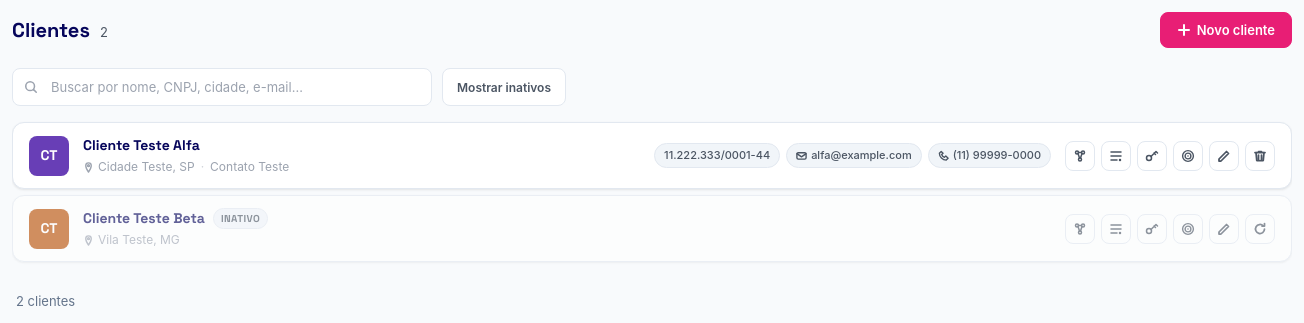
Test: ClientsPage › busca com debounce manda q pra API e "Limpar" volta à lista completa
This screenshot has width=1304, height=323.
Expected: the text "Cliente Teste Alfa" is shown, [83,136,200,154]
In the field with placeholder "Buscar por nome, CNPJ, cidade, e-mail…": (222, 87) [12,68,432,106], type "alfa"
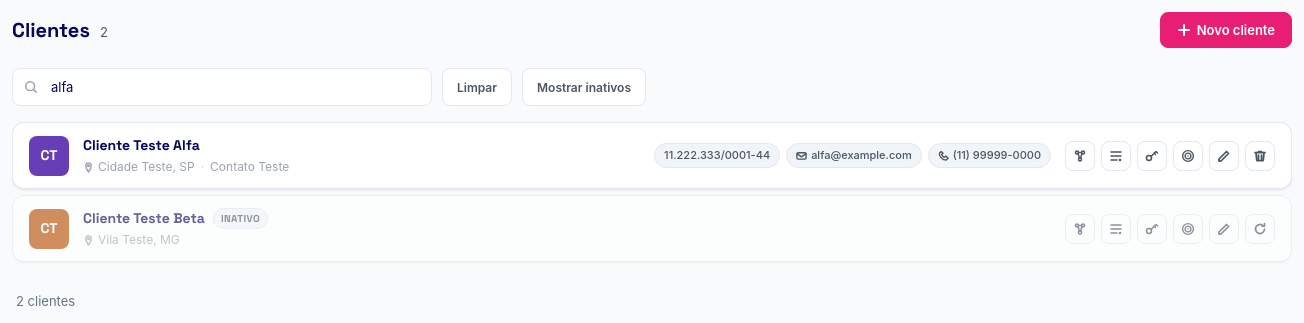
Click the button "Limpar": (477, 87) [442,68,512,106]
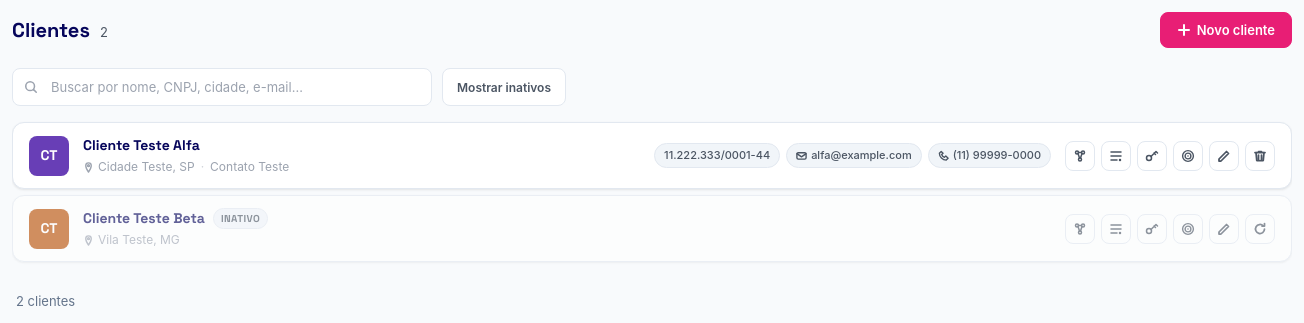
Now the field with placeholder "Buscar por nome, CNPJ, cidade, e-mail…" is empty, box [12,68,432,106]
